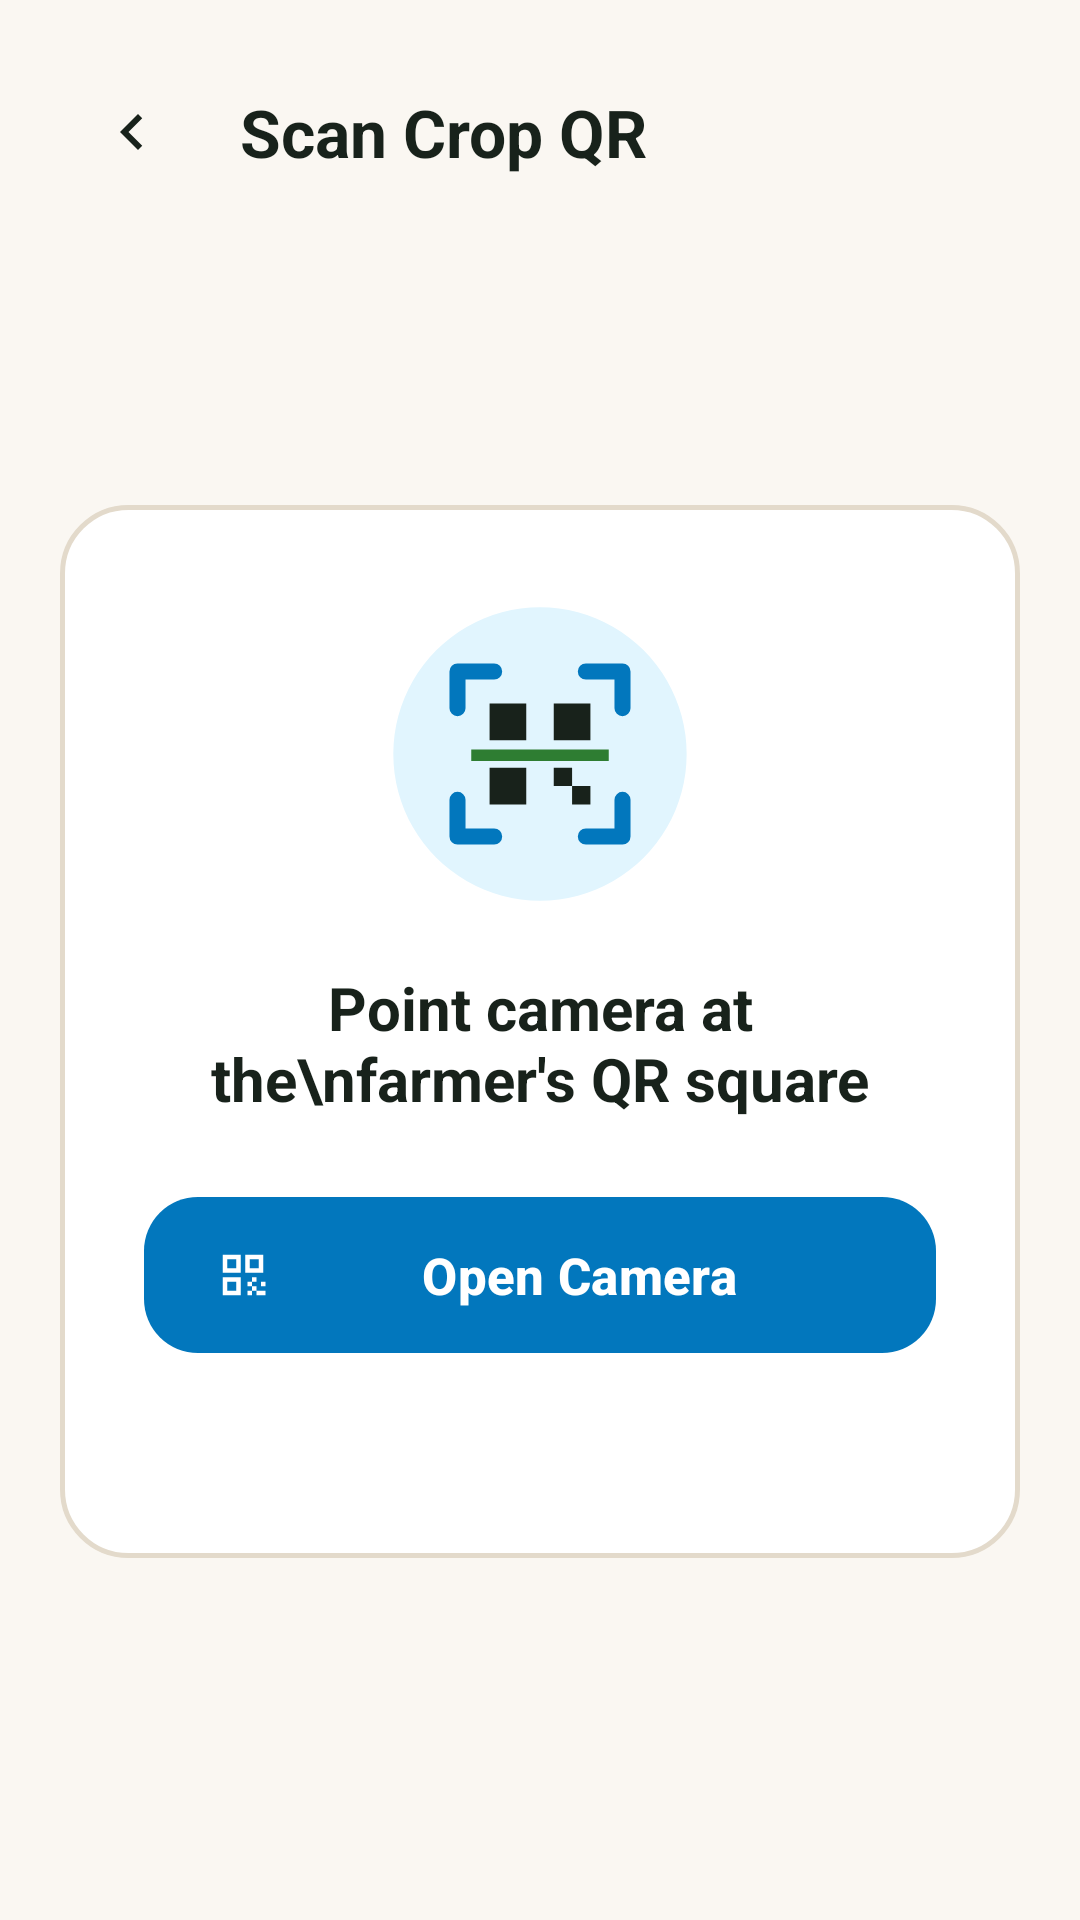

Icon bounding boxes for this 1080*1920 phone screenshot, format (x1, y1, x2, y2):
Back: (120, 114, 142, 150)
